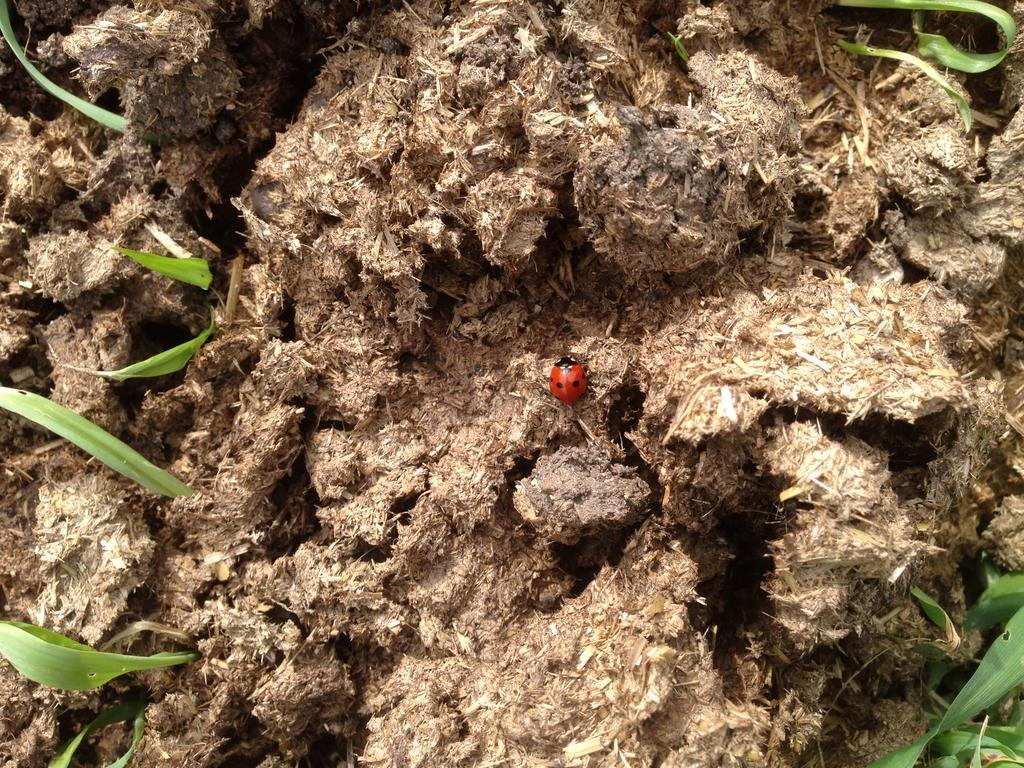ladybug: (549, 356, 592, 406)
